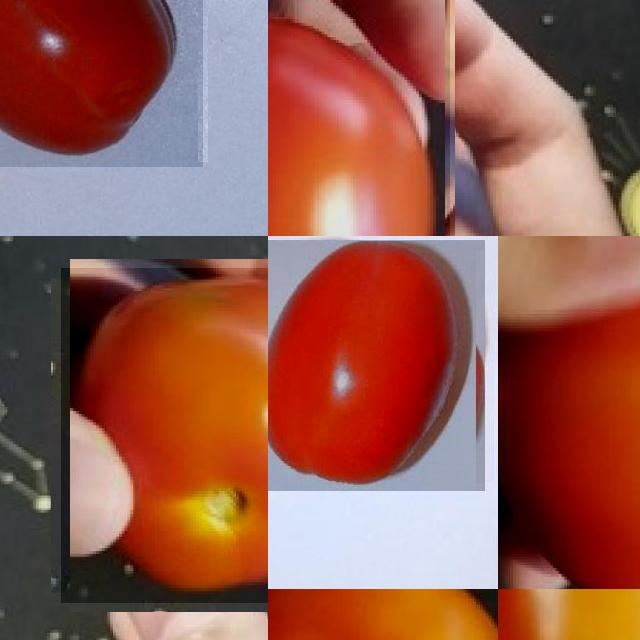0: (268, 0, 450, 236)
Fresh Tomato: (60, 268, 268, 602), (268, 240, 485, 491), (498, 236, 640, 589), (0, 0, 203, 167)
